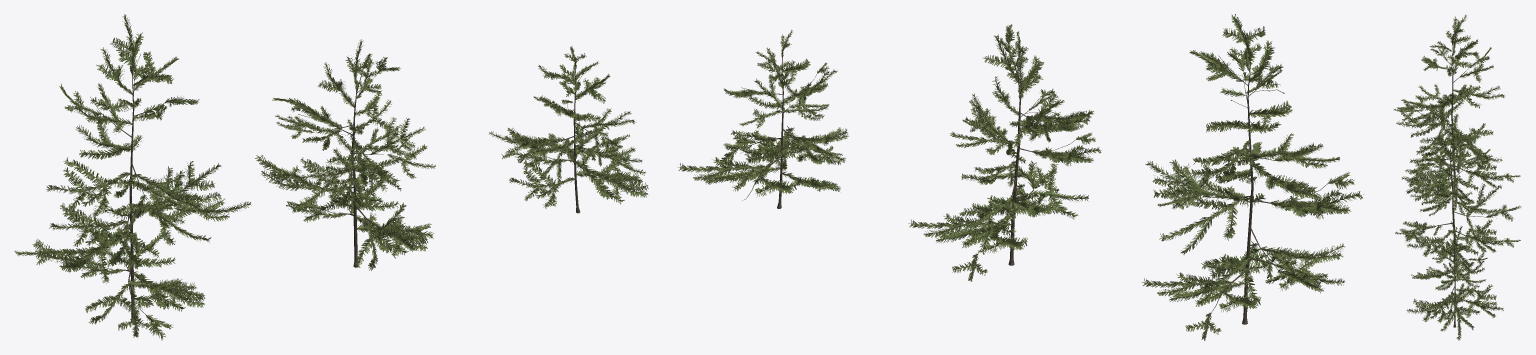
Rendered from fir_sapling.glb.
3 views of the same model, side by side, from view 1: azimuth 30°, elevation 25°; view 2: azimuth 150°, elevation 25°; view 3: azimuth 270°, elevation 25° (orthographic). The views are drawn at different scales.
Visible parts, largest first — view 1: fir_sapling_a, fir_sapling_b, fir_sapling_c; view 2: fir_sapling_a, fir_sapling_b, fir_sapling_c; view 3: fir_sapling_a, fir_sapling_b, fir_sapling_c.
Boxes of the visible parts, x1=… form: fir_sapling_a: x1=14, y1=14, x2=251, y2=340; fir_sapling_b: x1=255, y1=39, x2=435, y2=270; fir_sapling_c: x1=489, y1=46, x2=648, y2=213; fir_sapling_a: x1=1142, y1=14, x2=1363, y2=340; fir_sapling_b: x1=908, y1=24, x2=1101, y2=281; fir_sapling_c: x1=677, y1=29, x2=848, y2=208; fir_sapling_a: x1=1394, y1=14, x2=1520, y2=211; fir_sapling_b: x1=1395, y1=129, x2=1520, y2=276; fir_sapling_c: x1=1406, y1=221, x2=1503, y2=340.
Size of the model in its own units: 2.74 by 1.3 by 0.8264.
2 materials, 2 textured.
